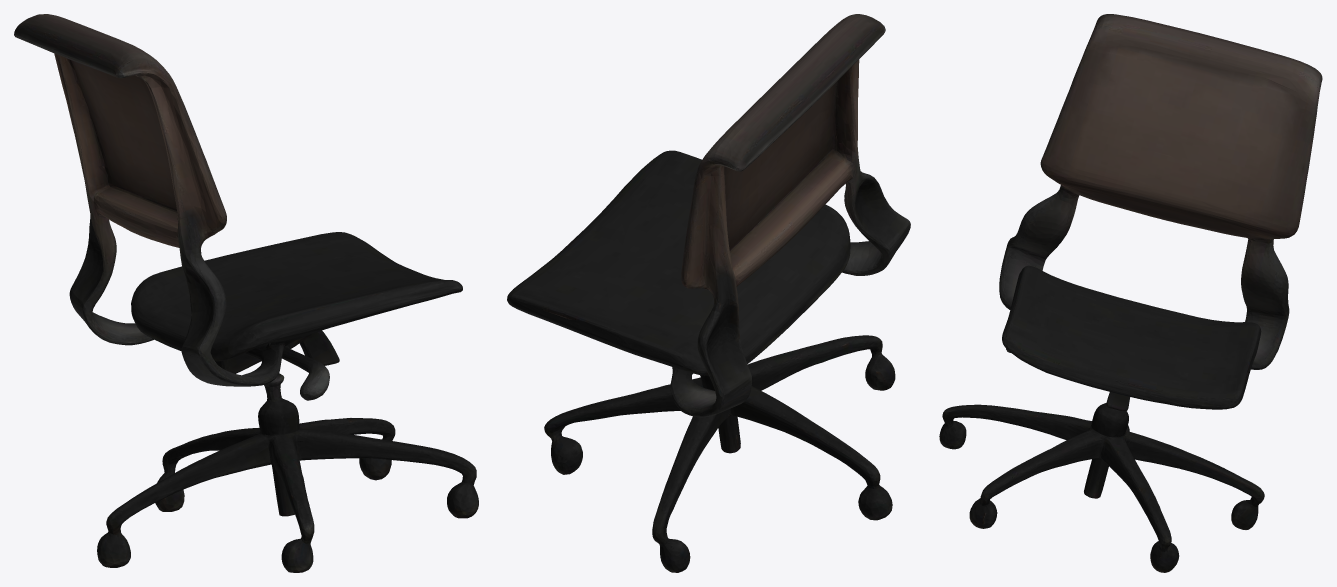
File: black_mesh_office_chair_in_right_foreground_000.glb
3 renders of one model, left to right at view 1: azimuth 30°, elevation 25°; view 2: azimuth 150°, elevation 25°; view 3: azimuth 270°, elevation 25°, orthographic. The views are drawn at different scales.
Parts seen in each view (by area): view 1: black_mesh_office_chair_in_right_foreground_000.obj; view 2: black_mesh_office_chair_in_right_foreground_000.obj; view 3: black_mesh_office_chair_in_right_foreground_000.obj.
Boxes of the visible parts, x1,y1,x2,y2 form: black_mesh_office_chair_in_right_foreground_000.obj: (14,14,478,572); black_mesh_office_chair_in_right_foreground_000.obj: (507,14,910,572); black_mesh_office_chair_in_right_foreground_000.obj: (939,14,1322,572).
Bounding box in the file's own units: 0.367 × 0.5764 × 0.4306.
1 material, 1 textured.
